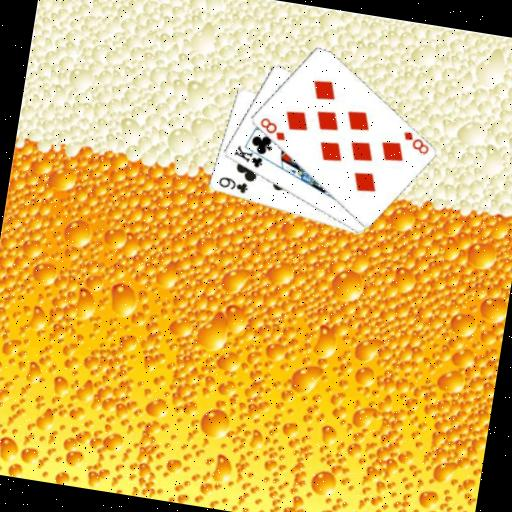8D: (254, 113, 290, 143), (397, 127, 432, 157)
9C: (214, 172, 251, 196)
KC: (229, 140, 271, 171)
